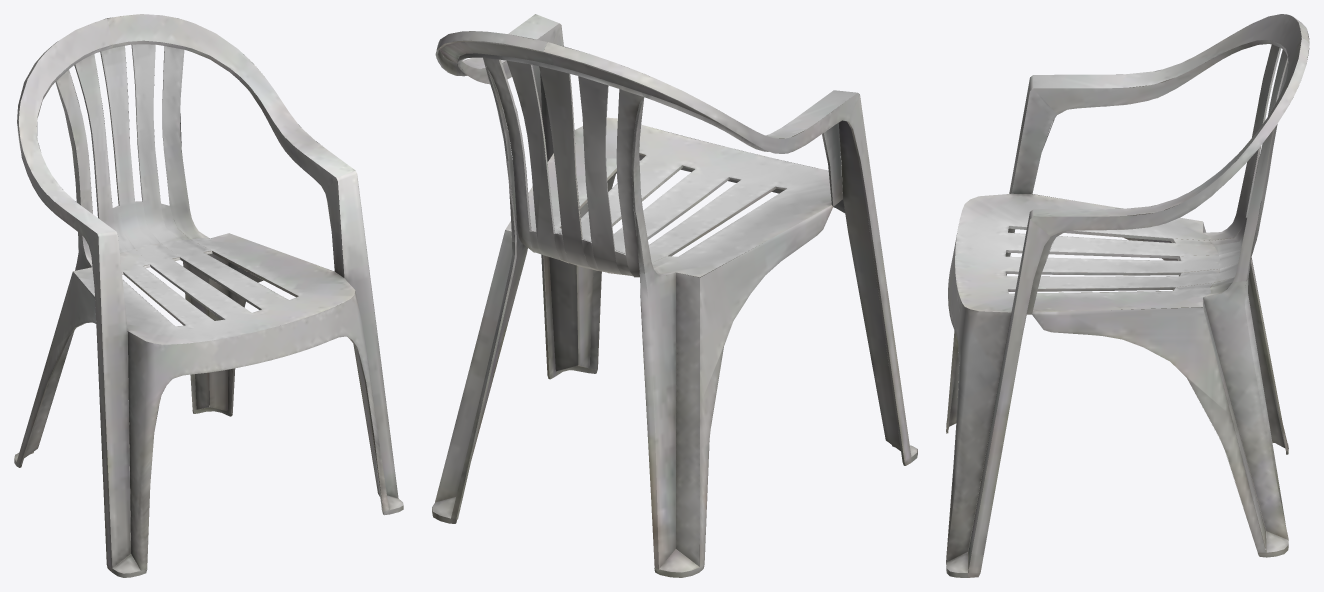
File: chair_plastic.glb
The picture shows the model from 3 angles, left to right: view 1: azimuth 30°, elevation 25°; view 2: azimuth 150°, elevation 25°; view 3: azimuth 270°, elevation 25°; orthographic projection. The views are drawn at different scales.
Visible parts, largest first — view 1: chair_plastic; view 2: chair_plastic; view 3: chair_plastic.
Part boxes in pixels (<box>): chair_plastic: <box>14,14,403,577</box>; chair_plastic: <box>432,14,917,577</box>; chair_plastic: <box>946,14,1309,577</box>.
Size of the model in its own units: 0.6418 by 0.8806 by 0.6282.
1 material, 1 textured.
